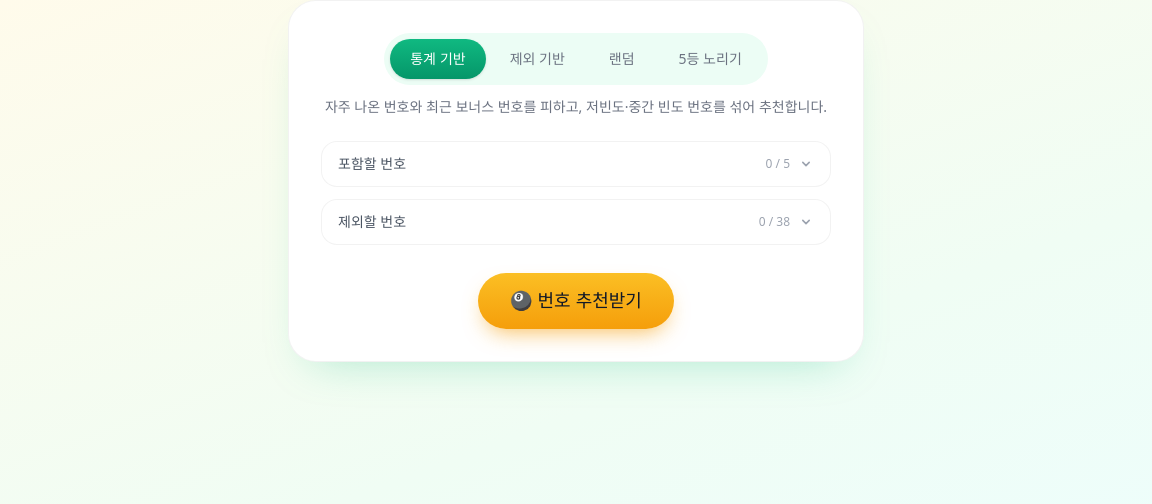
RecommenderClient › 5등 노리기 (target5) › shows a Korean fallback when the response is not JSON (gateway error page)
Click the button "🎱 번호 추천받기".
click(576, 301)  # box [478, 273, 674, 329]
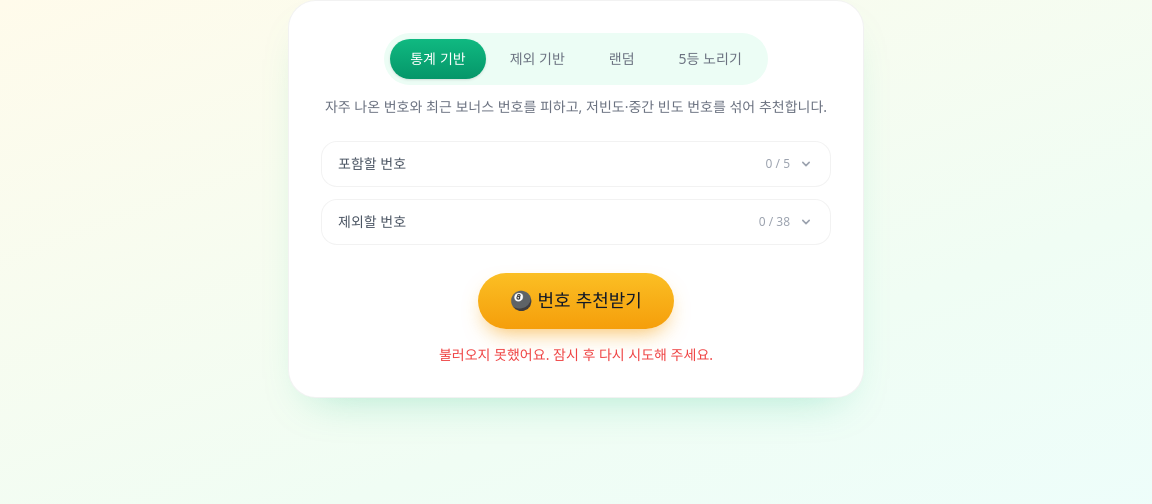
Now the message shows "불러오지 못했어요", box [439, 345, 713, 364]
